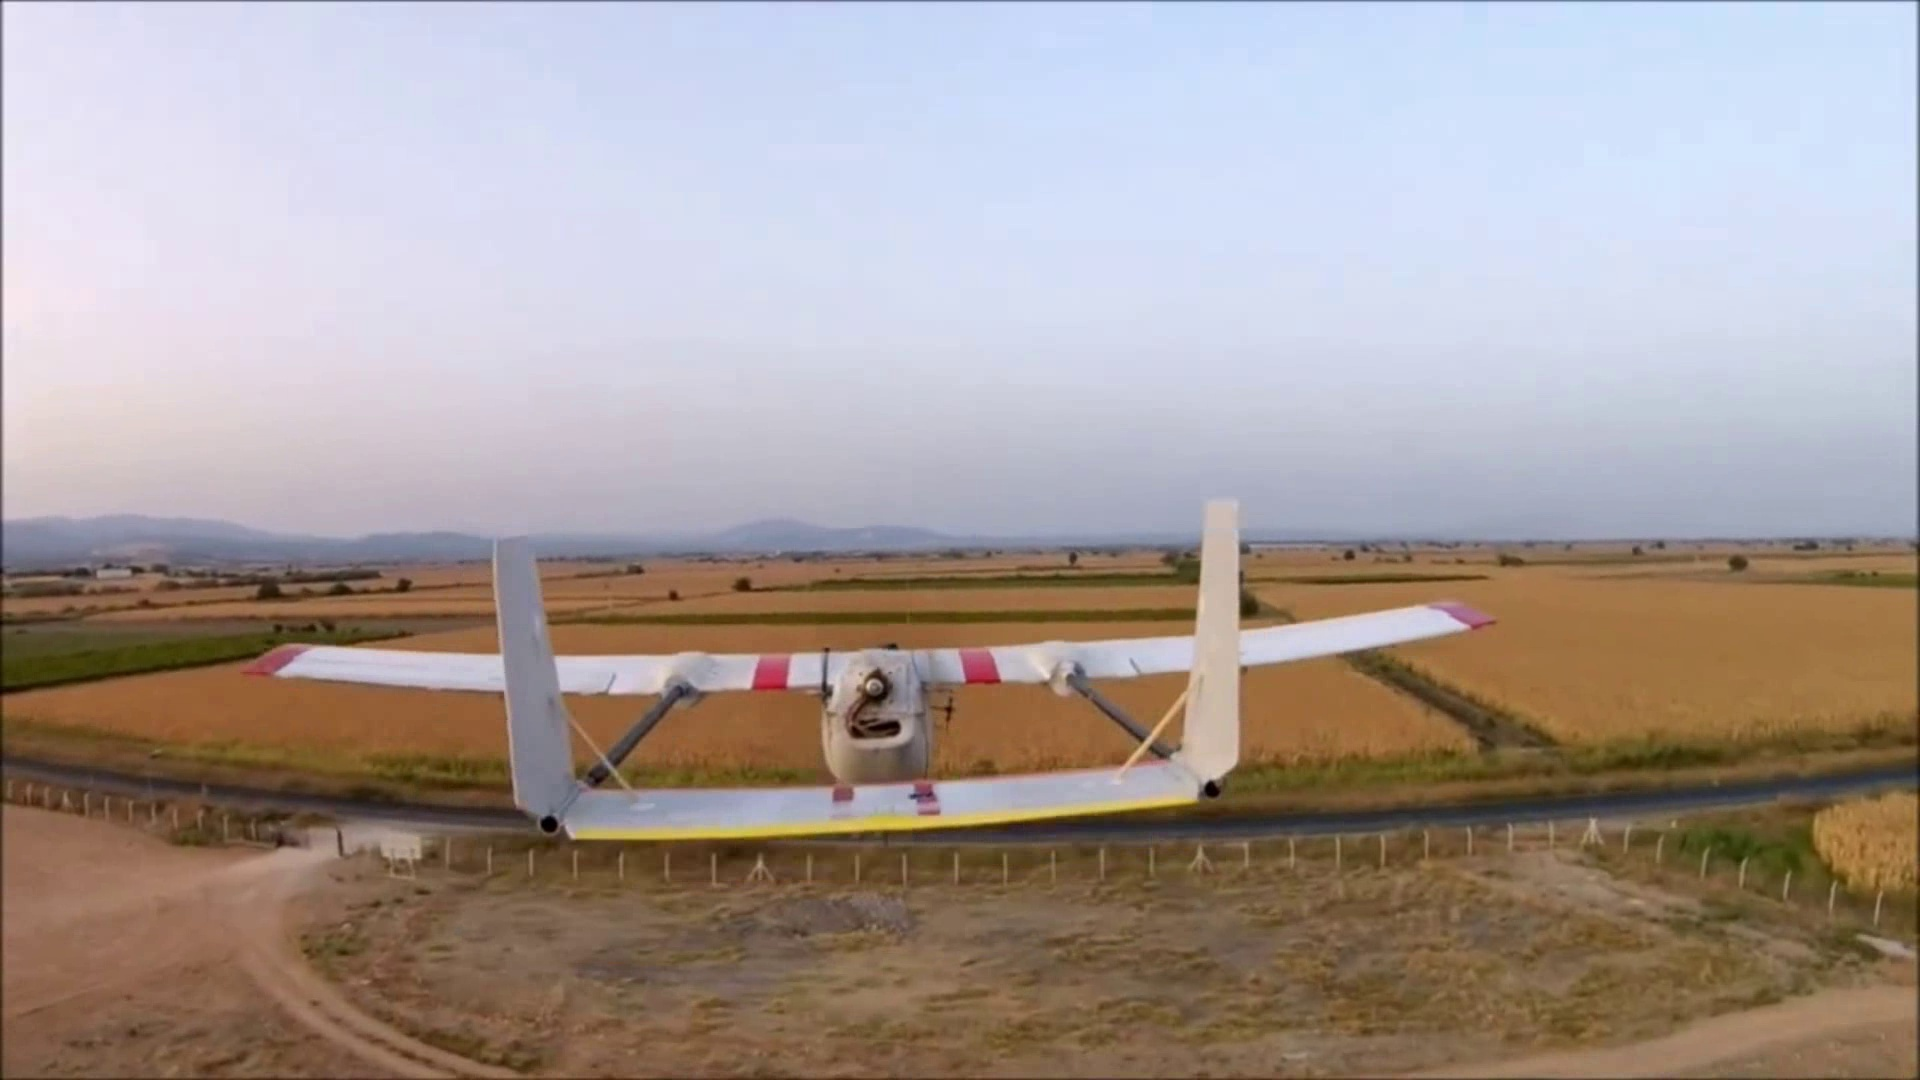airplane: (255, 498, 1501, 823)
